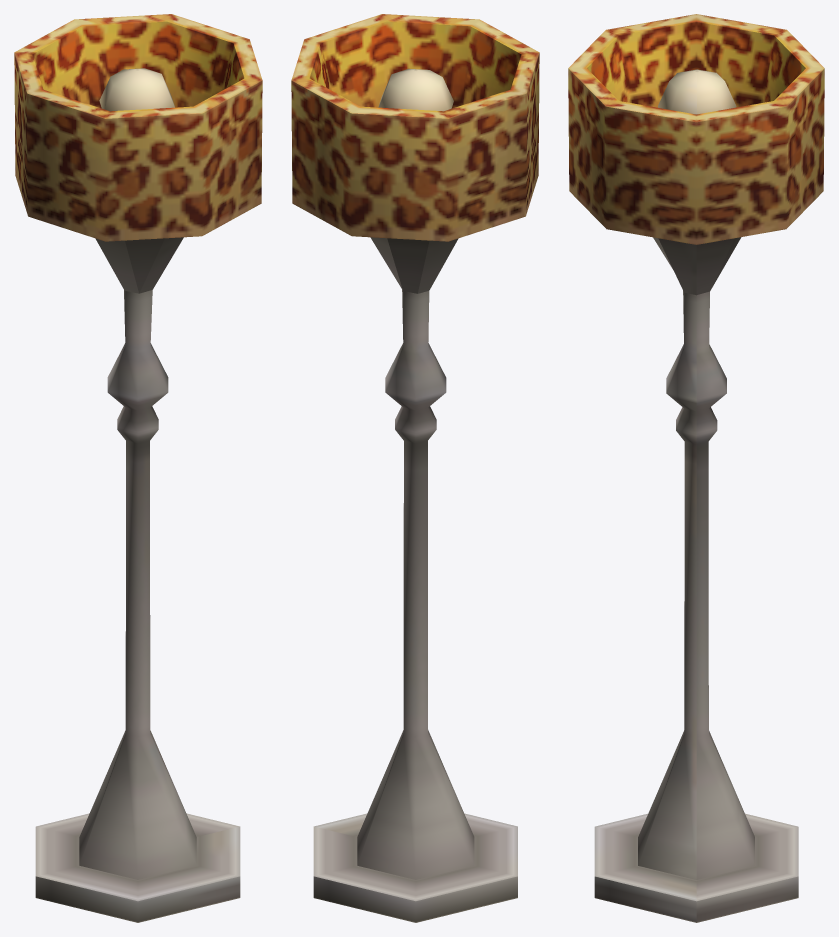
Rendered from furni_0200085.FBX.
The picture shows the model from 3 angles, left to right: view 1: azimuth 30°, elevation 25°; view 2: azimuth 150°, elevation 25°; view 3: azimuth 270°, elevation 25°; orthographic projection.
Visible parts, largest first — view 1: furni_0200085; view 2: furni_0200085; view 3: furni_0200085.
Part boxes in pixels (x1=…): furni_0200085: x1=14, y1=14, x2=262, y2=922; furni_0200085: x1=291, y1=14, x2=539, y2=922; furni_0200085: x1=568, y1=14, x2=824, y2=922.
Bounding box in the file's own units: 47.24 × 164 × 47.24.
